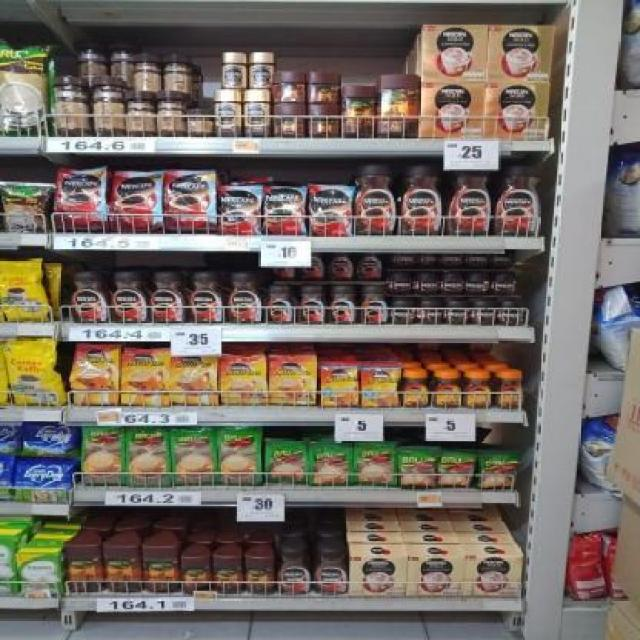Coffee: (496, 164, 544, 236), (354, 165, 400, 237), (400, 166, 446, 234), (448, 166, 494, 234), (166, 172, 216, 232), (59, 168, 106, 228), (72, 346, 118, 406), (116, 172, 162, 230), (123, 349, 168, 406), (170, 350, 216, 404), (218, 356, 267, 404), (268, 356, 314, 404), (309, 184, 351, 236), (262, 187, 306, 235), (218, 187, 260, 236), (227, 272, 264, 325), (108, 271, 147, 321), (69, 272, 108, 322), (185, 272, 224, 322), (149, 270, 185, 324), (320, 365, 357, 407), (361, 364, 397, 407), (313, 551, 349, 594), (278, 552, 313, 593), (327, 285, 359, 323), (297, 285, 328, 324), (359, 285, 390, 324), (214, 90, 240, 136), (430, 370, 462, 407), (266, 285, 296, 323), (244, 90, 268, 136), (494, 372, 524, 406), (400, 370, 429, 405), (465, 371, 492, 407), (222, 52, 247, 88), (250, 53, 272, 89), (446, 299, 471, 324), (474, 298, 498, 324), (419, 300, 443, 326), (390, 300, 415, 324), (415, 271, 440, 294), (329, 255, 354, 277), (467, 273, 490, 296), (358, 256, 382, 278), (500, 302, 525, 323), (390, 271, 412, 294), (495, 273, 517, 295), (442, 273, 464, 293), (391, 254, 415, 268), (490, 253, 512, 267), (417, 253, 438, 267), (441, 253, 462, 267), (464, 254, 485, 268)
